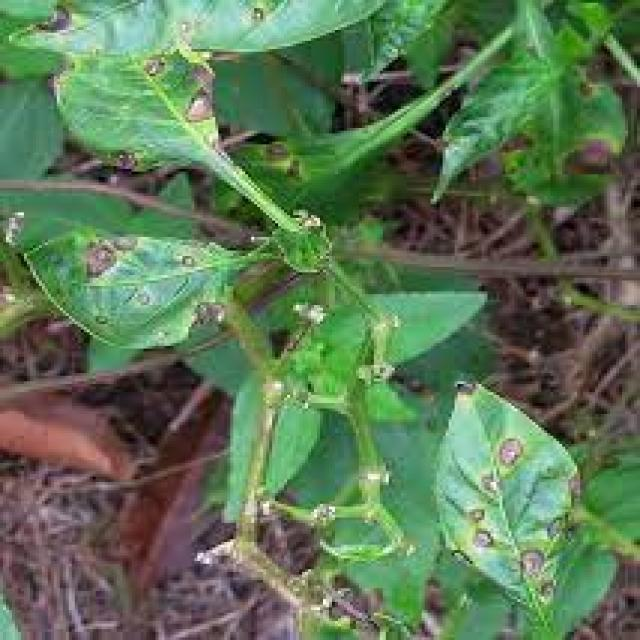bercak_daun: (415, 365, 595, 615), (16, 229, 241, 362)
